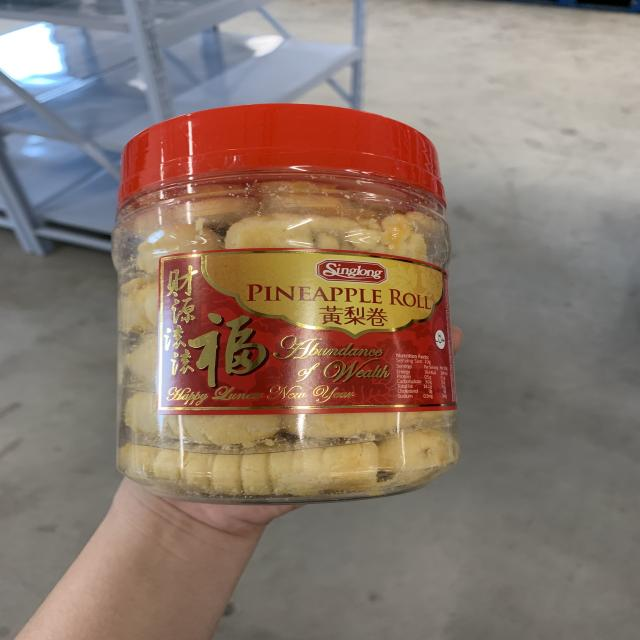object_name: (114, 121, 458, 486)
